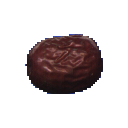gd: (14, 22, 115, 110)
